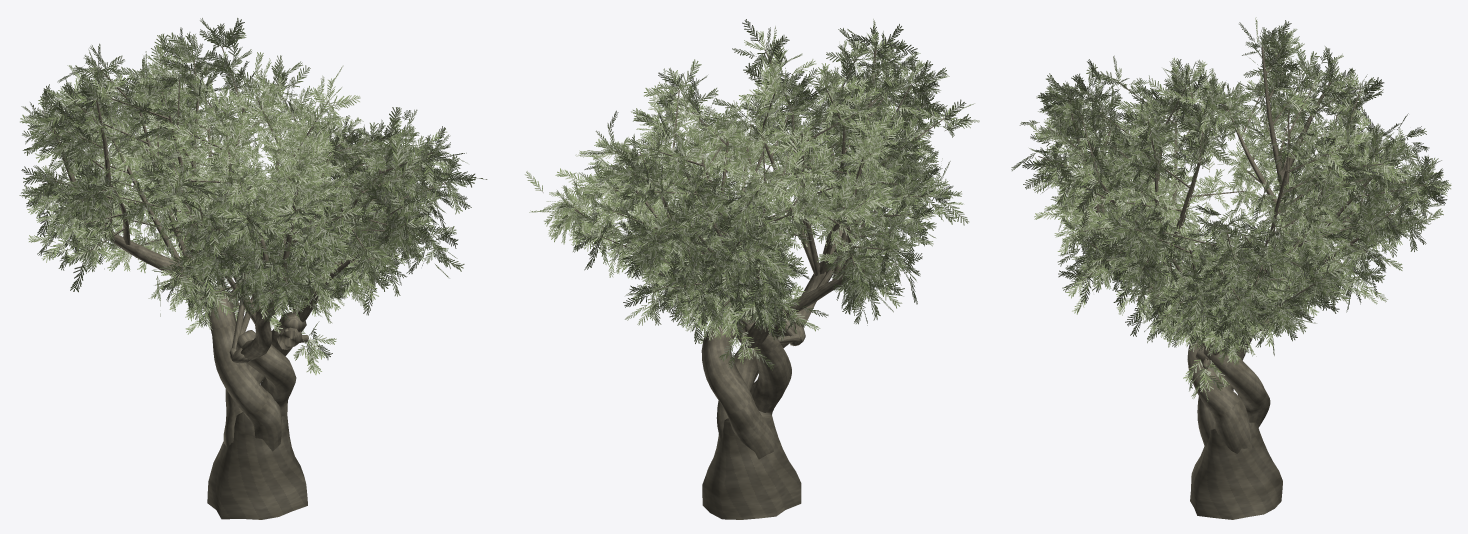
The picture shows the model from 3 angles, left to right: view 1: azimuth 30°, elevation 25°; view 2: azimuth 150°, elevation 25°; view 3: azimuth 270°, elevation 25°; orthographic projection. The views are drawn at different scales.
Visible parts, largest first — view 1: leaves_1, leaves_0, Trunk; view 2: leaves_1, leaves_0, Trunk; view 3: leaves_1, leaves_0, Trunk.
Part boxes in pixels (x1,y1,x2,y2): leaves_1: (19, 18, 487, 374); leaves_0: (91, 55, 432, 320); Trunk: (42, 46, 444, 519); leaves_1: (524, 19, 979, 370); leaves_0: (581, 66, 919, 332); Trunk: (568, 48, 943, 519); leaves_1: (1011, 17, 1451, 401); leaves_0: (1072, 93, 1389, 349); Trunk: (1038, 46, 1425, 519).
Size of the model in its own units: 4.01 by 4.26 by 4.05.
2 materials, 2 textured.
